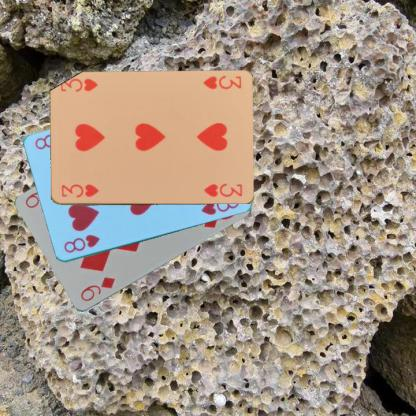3h: (58, 181, 100, 199), (201, 73, 243, 91)
8h: (61, 232, 101, 255)
9d: (77, 274, 117, 304)
